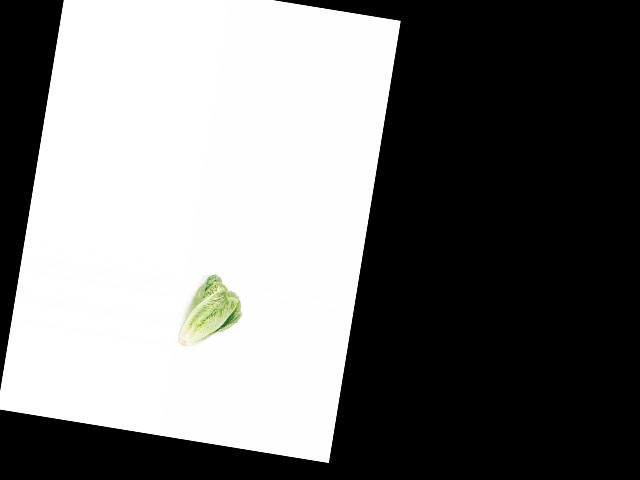lettuce: (174, 270, 246, 359)
